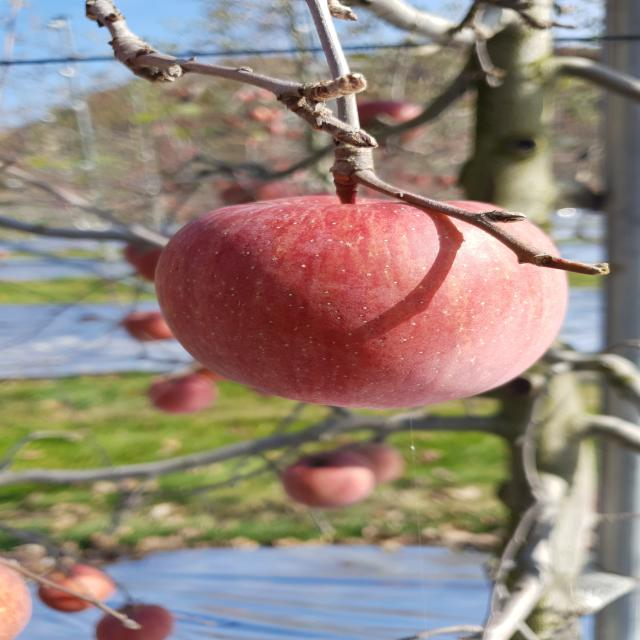fresh: (149, 190, 573, 417)
